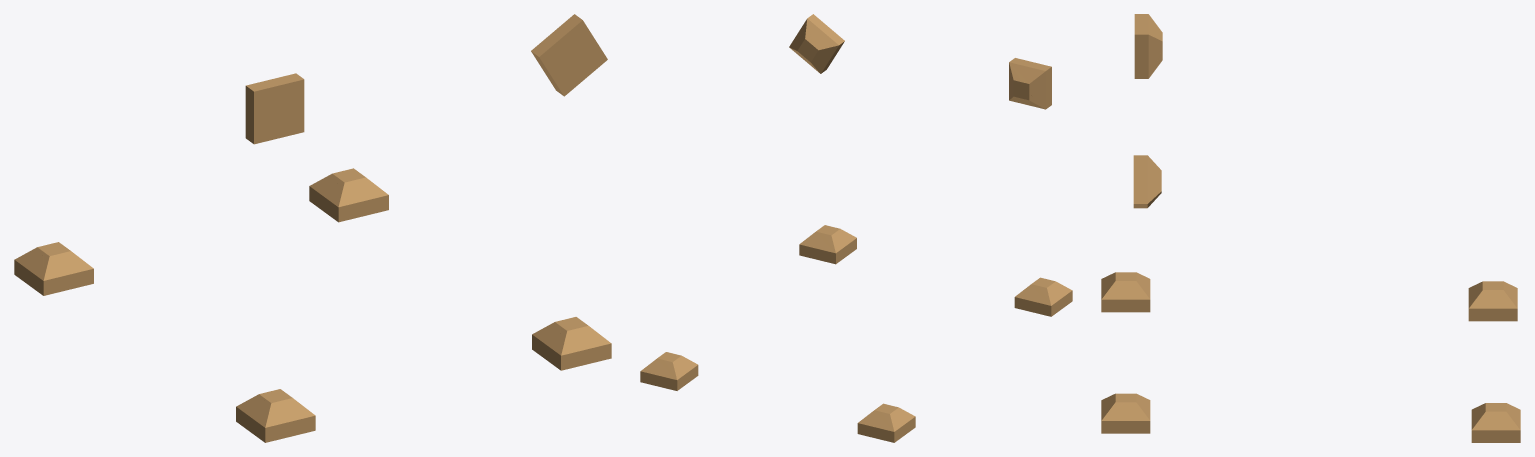
File: R12_target_base.dae
3 views of the same model, side by side, from view 1: azimuth 30°, elevation 25°; view 2: azimuth 150°, elevation 25°; view 3: azimuth 270°, elevation 25° (orthographic). The views are drawn at different scales.
Visible parts, largest first — view 1: Group9, Group14, Group12, Group3_001, Group6, Group3; view 2: Group9, Group14, Group3_001, Group6, Group12, Group3; view 3: Group3_001, Group6, Group3, Group12, Group9, Group14.
Part boxes in pixels (x1,y1,x2,y2): Group9: [245, 73, 304, 144]; Group14: [531, 14, 607, 96]; Group12: [309, 168, 388, 222]; Group3_001: [236, 389, 315, 442]; Group6: [14, 242, 93, 295]; Group3: [532, 317, 611, 370]; Group9: [1009, 58, 1051, 109]; Group14: [789, 14, 844, 73]; Group3_001: [1014, 277, 1072, 316]; Group6: [857, 403, 915, 442]; Group12: [640, 352, 698, 390]; Group3: [799, 225, 856, 264]; Group3_001: [1101, 272, 1150, 312]; Group6: [1468, 281, 1517, 321]; Group3: [1101, 393, 1150, 433]; Group12: [1471, 403, 1520, 442]; Group9: [1134, 14, 1162, 78]; Group14: [1133, 155, 1161, 208].
Size of the model in its own units: 1.01 by 1.2 by 0.921.
